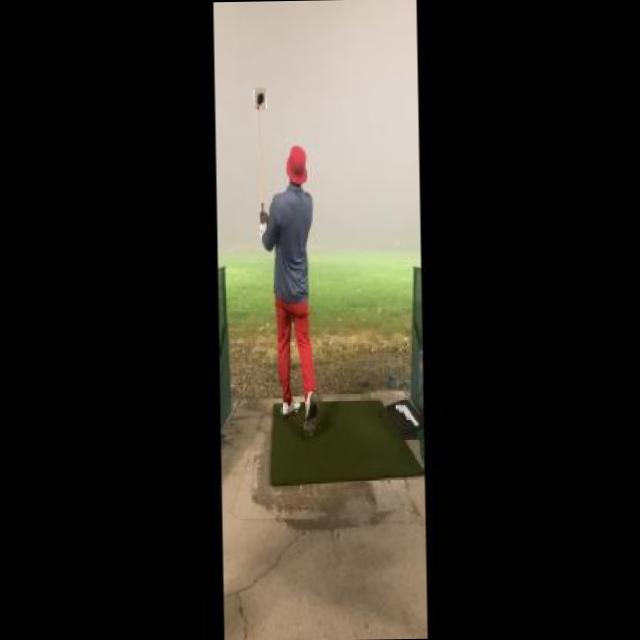club head: (254, 87, 266, 109)
